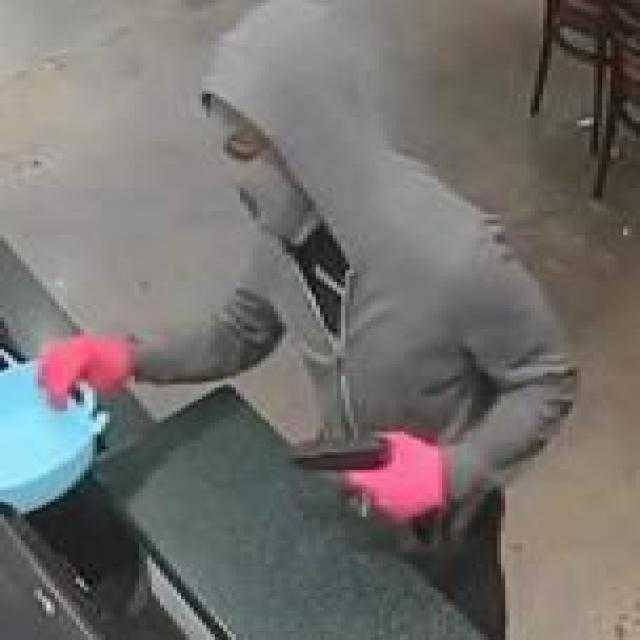weapon: (288, 434, 402, 498)
